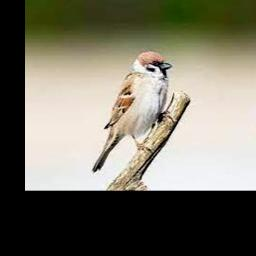Sparrow: (93, 50, 171, 172)
